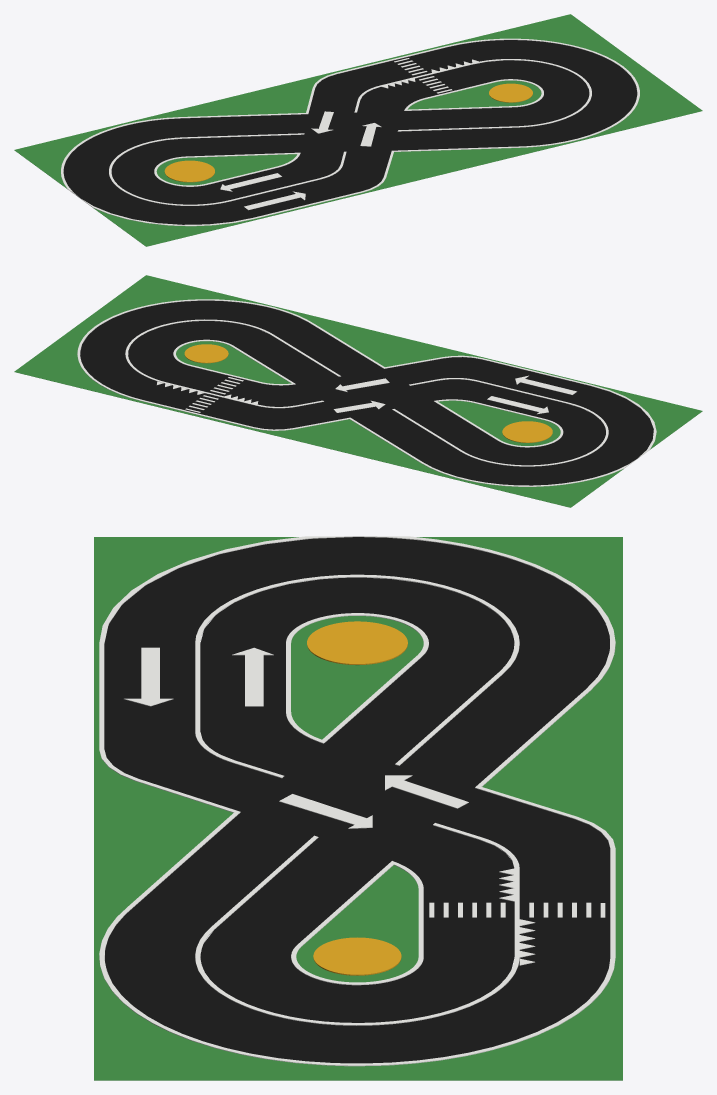
Rendered from Traseu.fbx.
The picture shows the model from 3 angles, top to bottom: view 1: azimuth 30°, elevation 25°; view 2: azimuth 150°, elevation 25°; view 3: azimuth 270°, elevation 25°; orthographic projection. The views are drawn at different scales.
Parts seen in each view (by area): view 1: Body11, Body12, Body15, Body1, Body10, Body14, Body16, Body46, Body45, Body17, Body13; view 2: Body11, Body12, Body15, Body1, Body10, Body14, Body16, Body46, Body45, Body17, Body13; view 3: Body11, Body12, Body15, Body1, Body10, Body14, Body46, Body16, Body45, Body17, Body13, Body25 (+3 smaller).
Part boxes in pixels (left/top/right/bottom): Body11: left=63, top=40, right=637, bottom=224; Body12: left=14, top=14, right=702, bottom=246; Body15: left=61, top=38, right=639, bottom=226; Body1: left=156, top=154, right=296, bottom=185; Body10: left=408, top=80, right=541, bottom=109; Body14: left=354, top=59, right=591, bottom=131; Body16: left=109, top=133, right=346, bottom=205; Body46: left=164, top=160, right=214, bottom=182; Body45: left=489, top=83, right=532, bottom=102; Body17: left=154, top=152, right=300, bottom=186; Body13: left=404, top=79, right=543, bottom=110; Body11: left=80, top=300, right=653, bottom=485; Body12: left=14, top=275, right=702, bottom=507; Body15: left=77, top=299, right=656, bottom=486; Body1: left=438, top=400, right=560, bottom=445; Body10: left=176, top=341, right=290, bottom=383; Body14: left=125, top=319, right=340, bottom=408; Body16: left=392, top=378, right=608, bottom=466; Body46: left=502, top=421, right=552, bottom=442; Body45: left=184, top=344, right=228, bottom=363; Body17: left=434, top=399, right=563, bottom=447; Body13: left=173, top=339, right=295, bottom=385; Body11: left=104, top=537, right=610, bottom=1063; Body12: left=94, top=537, right=622, bottom=1080; Body15: left=99, top=536, right=615, bottom=1066; Body1: left=291, top=616, right=423, bottom=739; Body10: left=296, top=865, right=418, bottom=982; Body14: left=195, top=823, right=535, bottom=1025; Body46: left=307, top=621, right=407, bottom=664; Body16: left=195, top=574, right=519, bottom=778; Body45: left=313, top=937, right=401, bottom=975; Body17: left=286, top=613, right=428, bottom=743; Body13: left=291, top=861, right=423, bottom=985; Body25: left=124, top=647, right=173, bottom=706.
Size of the model in its own units: 1240 by 1.5 by 510.
